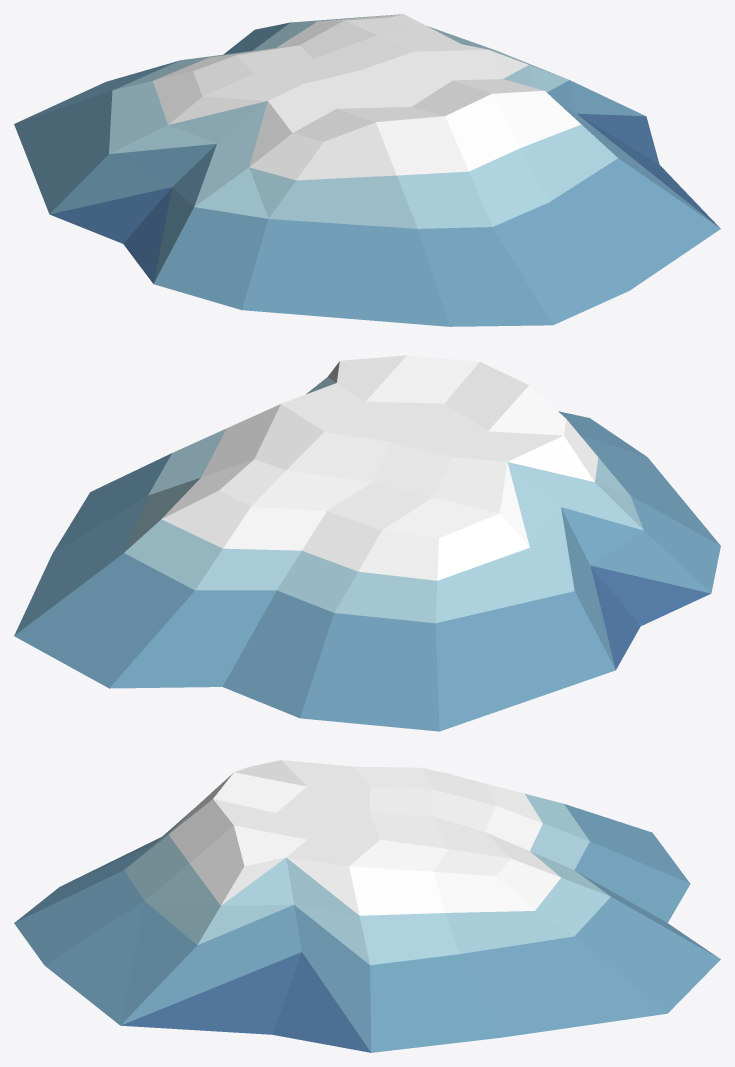
File: terrainBeach1.fbx
3 views of the same model, one above another, from view 1: azimuth 30°, elevation 25°; view 2: azimuth 150°, elevation 25°; view 3: azimuth 270°, elevation 25° (orthographic). The views are drawn at different scales.
Parts seen in each view (by area): view 1: top, bottom; view 2: bottom, top; view 3: bottom, top.
Part boxes in pixels (<box>): top: <box>242,79,720,326</box>; bottom: <box>14,14,720,309</box>; bottom: <box>14,377,720,731</box>; top: <box>328,355,720,545</box>; bottom: <box>120,760,720,1052</box>; top: <box>14,760,306,1025</box>.
Size of the model in its own units: 707 by 162 by 844.
Materials: 2 (2 with a texture image).
